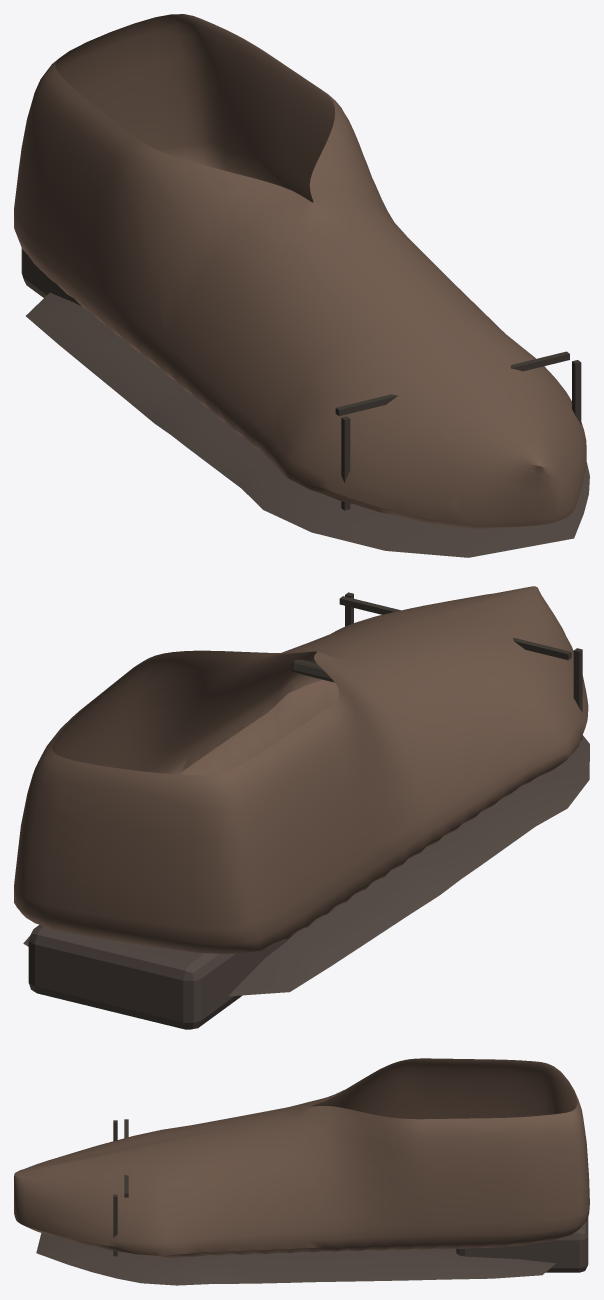
The model's file is shoe_oxford.glb.
3 views of the same model, one above another, from view 1: azimuth 30°, elevation 25°; view 2: azimuth 150°, elevation 25°; view 3: azimuth 270°, elevation 25° (orthographic). The views are drawn at different scales.
Visible parts, largest first — view 1: upper, sole, Cube.003, Cube; view 2: upper, sole, Cube, Cube.003, Cube.001; view 3: upper, sole, Cube.
Boxes of the visible parts, x1=… form: upper: x1=14, y1=14, x2=586, y2=528; sole: x1=26, y1=292, x2=589, y2=557; Cube.003: x1=335, y1=351, x2=569, y2=416; Cube: x1=21, y1=248, x2=80, y2=305; upper: x1=14, y1=586, x2=588, y2=953; sole: x1=23, y1=735, x2=589, y2=996; Cube: x1=28, y1=925, x2=287, y2=1029; Cube.003: x1=339, y1=596, x2=571, y2=660; Cube.001: x1=573, y1=648, x2=582, y2=740; upper: x1=14, y1=1058, x2=589, y2=1257; sole: x1=36, y1=1233, x2=555, y2=1285; Cube: x1=456, y1=1218, x2=588, y2=1272.
Bounding box in the file's own units: 0.105 × 0.08 × 0.2619.
